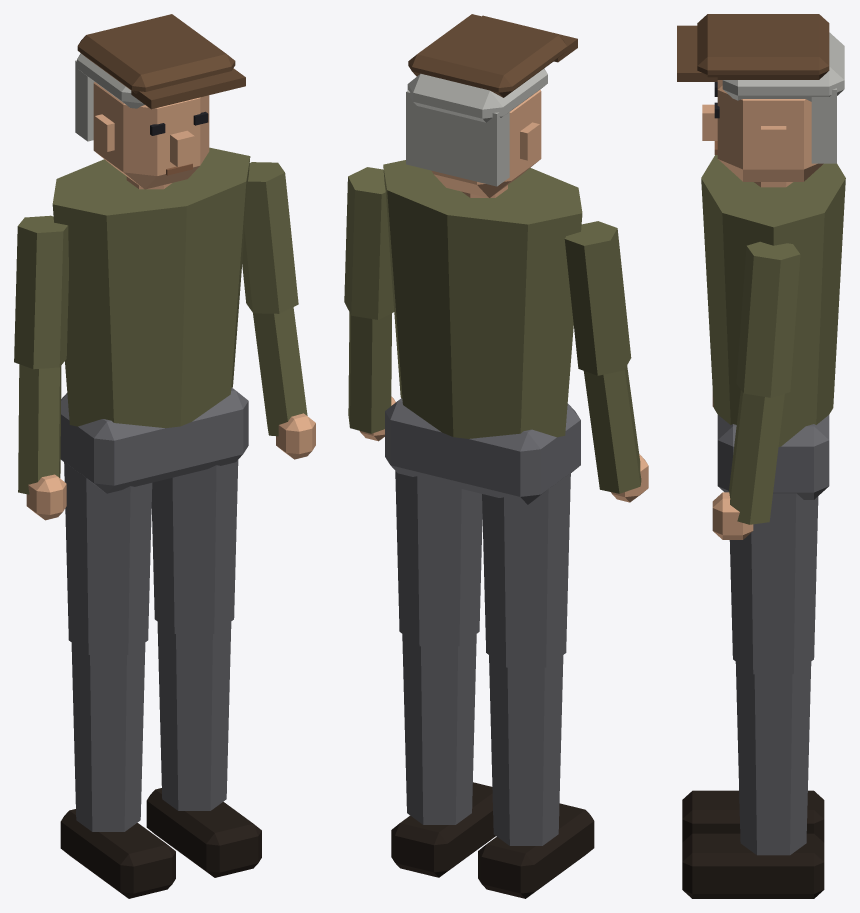
Rendered from person.res-price-sensitive.glb.
3 views of the same model, side by side, from view 1: azimuth 30°, elevation 25°; view 2: azimuth 150°, elevation 25°; view 3: azimuth 270°, elevation 25° (orthographic). The views are drawn at different scales.
Visible parts, largest first — view 1: torso, thigh-1, thigh1, shin1, shin-1, hips, upper-1, flatcap, upper1, head, shoe1, shoe-1 (+9 smaller); view 2: torso, thigh-1, thigh1, shin1, shin-1, hips, upper-1, flatcap, hair-back, upper1, shoe-1, fore-1 (+5 smaller); view 3: torso, thigh1, shin1, flatcap, upper1, shoe1, head, fore1, hips, shoe-1, hair, hair-back (+4 smaller).
Boxes of the visible parts, box(x1,y1,x2,y2) form: torso: box(52, 147, 250, 428); thigh-1: box(64, 462, 152, 654); thigh1: box(151, 460, 238, 633); shin1: box(157, 622, 231, 810); shin-1: box(71, 643, 145, 831); hips: box(60, 387, 248, 493); upper-1: box(14, 215, 68, 369); flatcap: box(77, 14, 235, 93); upper1: box(242, 162, 298, 313); head: box(93, 82, 209, 189); shoe1: box(146, 788, 261, 877); shoe-1: box(60, 809, 175, 898); torso: box(383, 160, 582, 438); thigh-1: box(482, 473, 570, 667); thigh1: box(395, 471, 482, 646); shin1: box(402, 634, 476, 824); shin-1: box(489, 655, 563, 845); hips: box(385, 398, 580, 504); upper-1: box(564, 221, 631, 375); flatcap: box(408, 14, 567, 97); hair-back: box(406, 90, 509, 186); upper1: box(344, 167, 394, 319); shoe-1: box(478, 803, 594, 898); fore-1: box(583, 365, 641, 493); torso: box(701, 155, 845, 446); thigh1: box(729, 493, 818, 674); shin1: box(735, 662, 811, 855); flatcap: box(697, 14, 829, 79); upper1: box(736, 241, 800, 397); shoe1: box(682, 833, 824, 898); head: box(717, 80, 823, 181); fore1: box(729, 390, 784, 524); hips: box(717, 415, 829, 499); shoe-1: box(682, 790, 824, 842); hair: box(722, 32, 844, 101); hair-back: box(811, 88, 836, 163).
Size of the model in its own units: 0.6746 by 1.81 by 0.3326.
